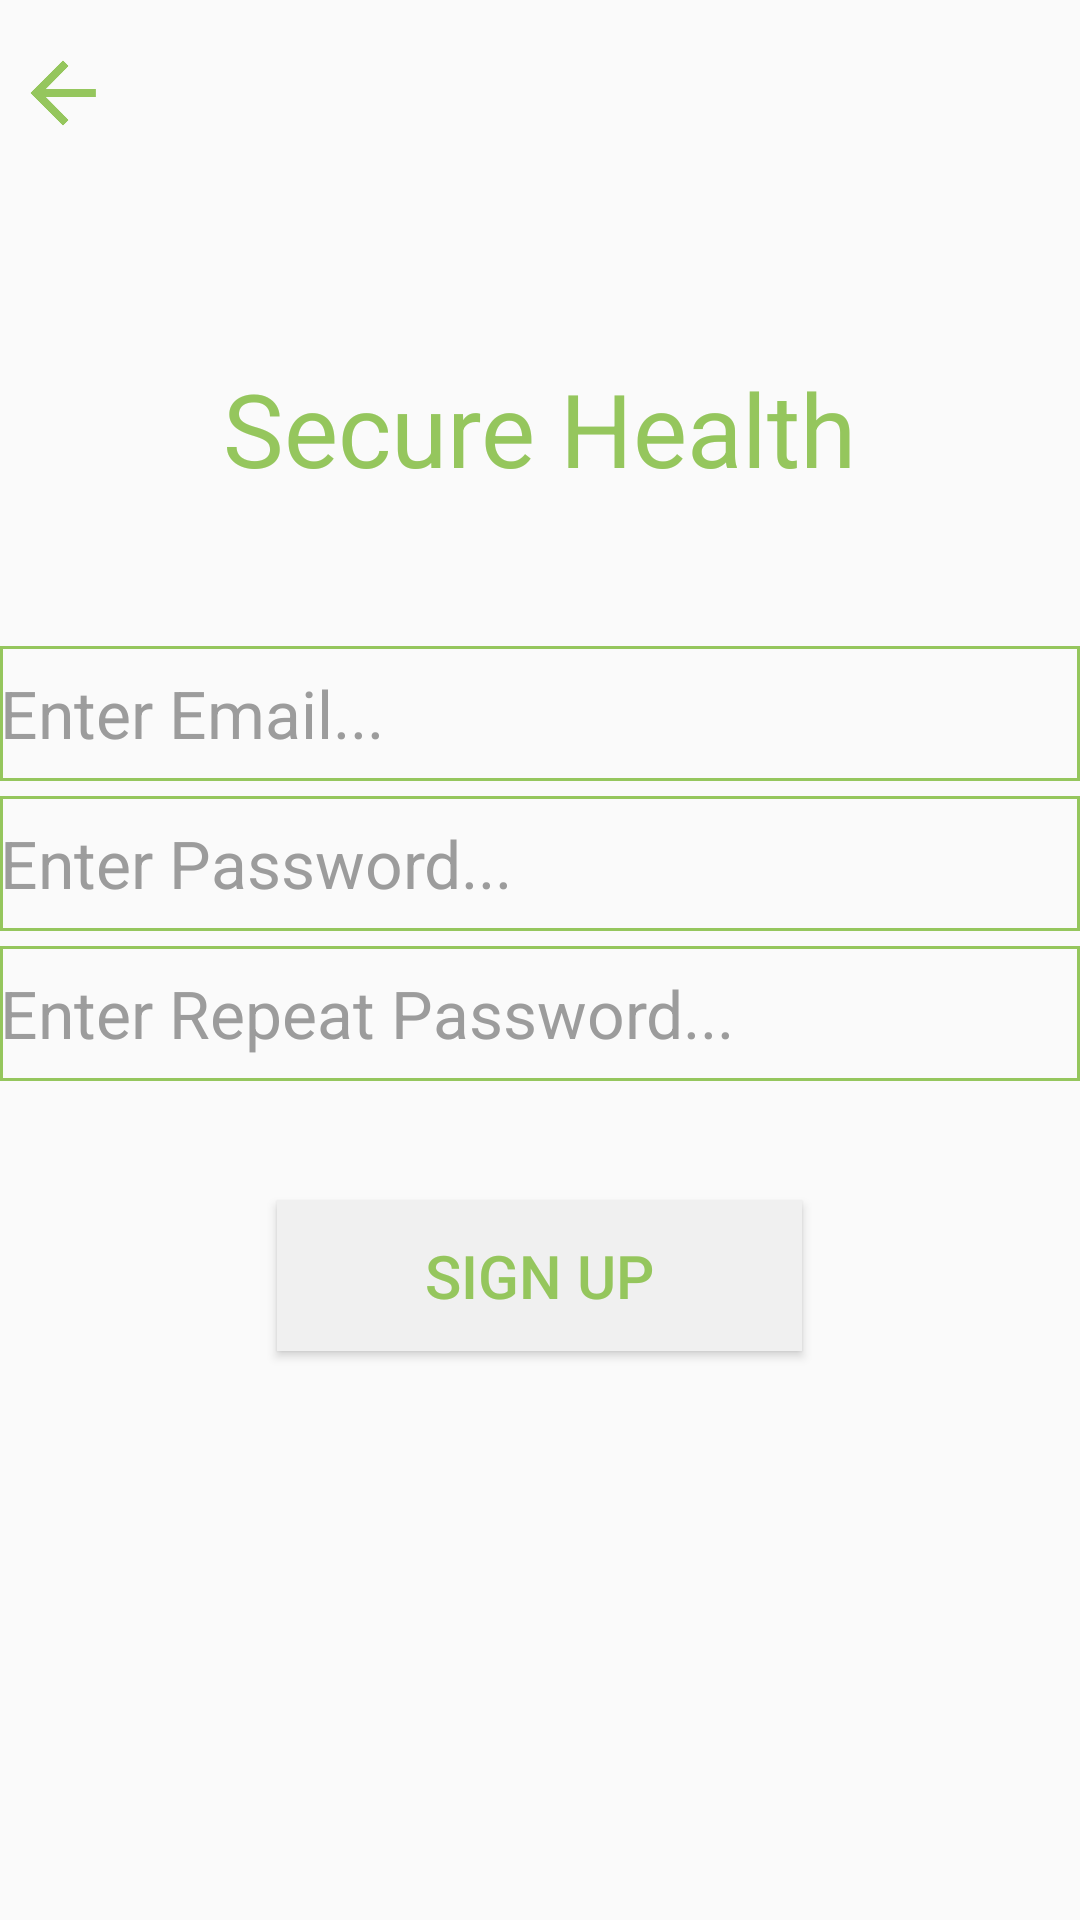

Icons on this 1080px x 1920px Android screen, each with the point to tap as (x=x, y=y):
back: (x=63, y=93)
